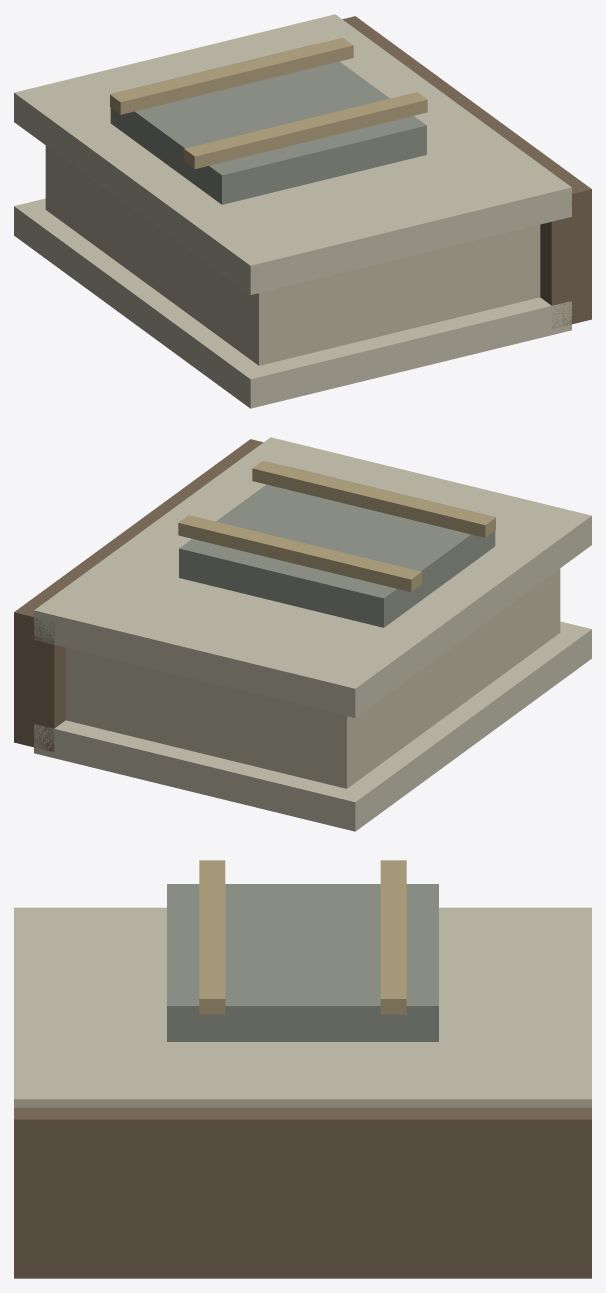
File: spread-portable-stillleafregister.fbx
3 renders of one model, top to bottom at view 1: azimuth 30°, elevation 25°; view 2: azimuth 150°, elevation 25°; view 3: azimuth 270°, elevation 25°, orthographic. The views are drawn at different scales.
Parts seen in each view (by area): view 1: spread-portable-stillleafregister__Geometry; view 2: spread-portable-stillleafregister__Geometry; view 3: spread-portable-stillleafregister__Geometry.
Boxes of the visible parts, x1,y1,x2,y2 form: spread-portable-stillleafregister__Geometry: [14, 14, 591, 408]; spread-portable-stillleafregister__Geometry: [14, 437, 591, 831]; spread-portable-stillleafregister__Geometry: [14, 860, 591, 1278].
Bounding box in the file's own units: 0.425 × 0.228 × 0.51.
